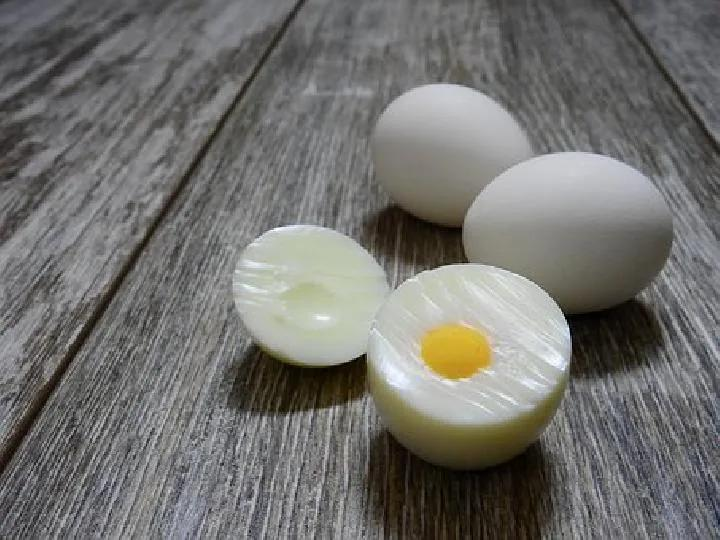telur: (396, 293, 541, 424), (493, 187, 641, 268), (254, 237, 360, 344), (393, 99, 494, 185)
